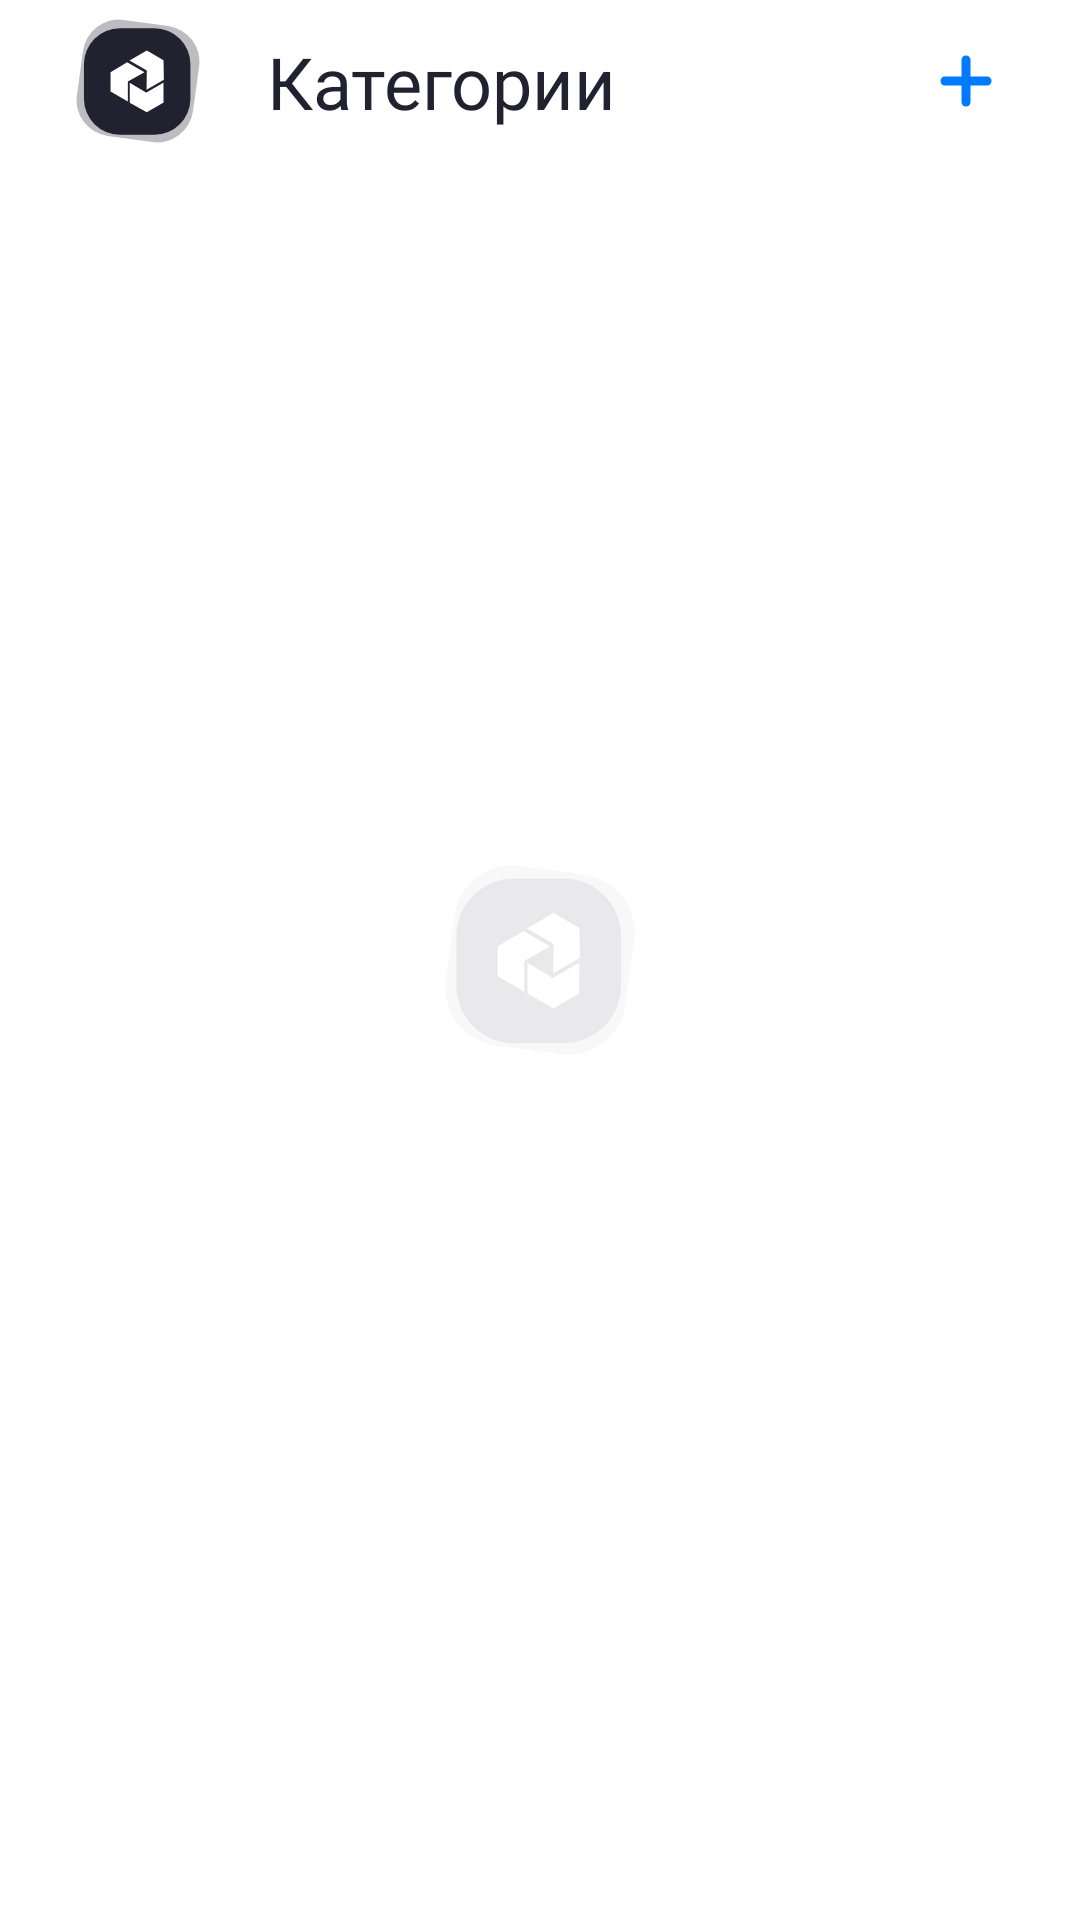

Screen size 1080*1920. Icon name, then its box in pixels as (x1, y1, x2, y2):
plus: (940, 55, 992, 107)
